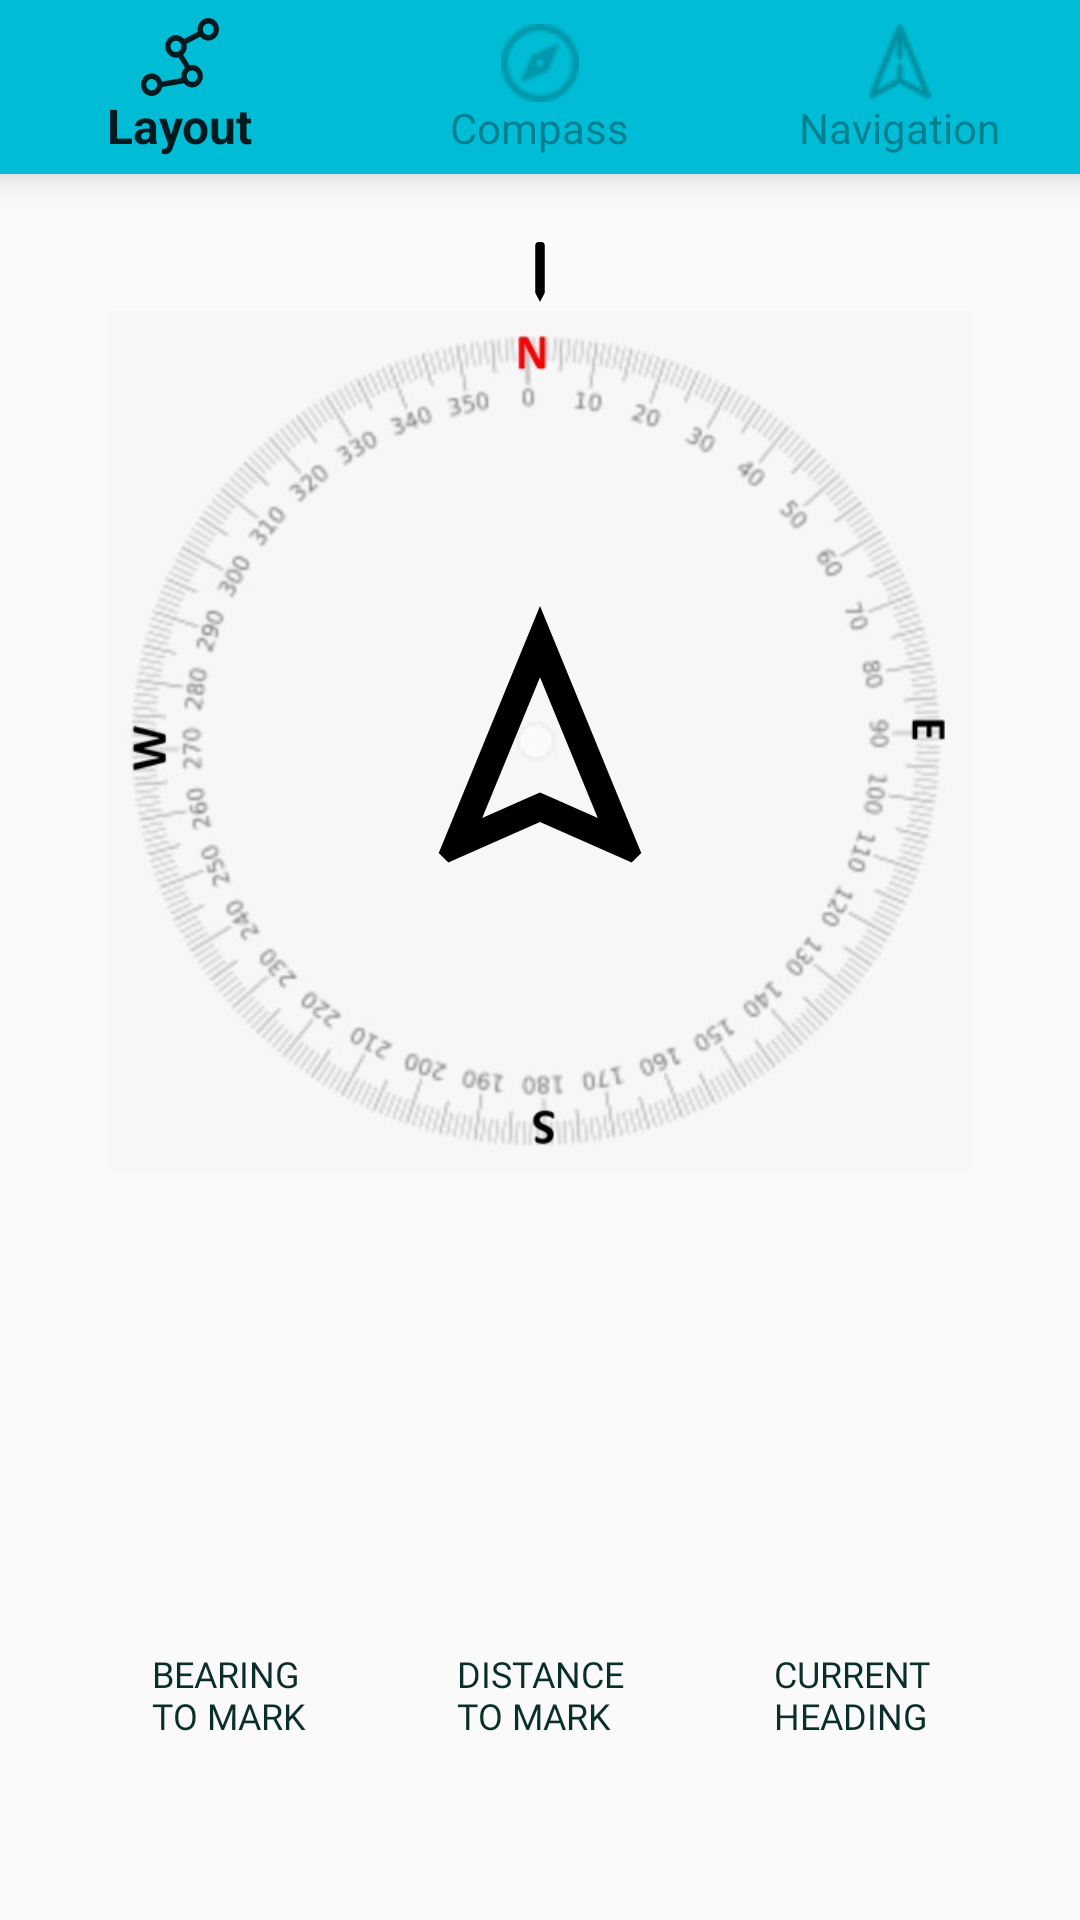

Icon bounding boxes for this 1080px x 1920px phone screenshot, format (left=x1, top=y1, right=x2, bottom=y2):
line: (left=535, top=242, right=545, bottom=302)
navigation arrow: (left=439, top=606, right=641, bottom=863)
